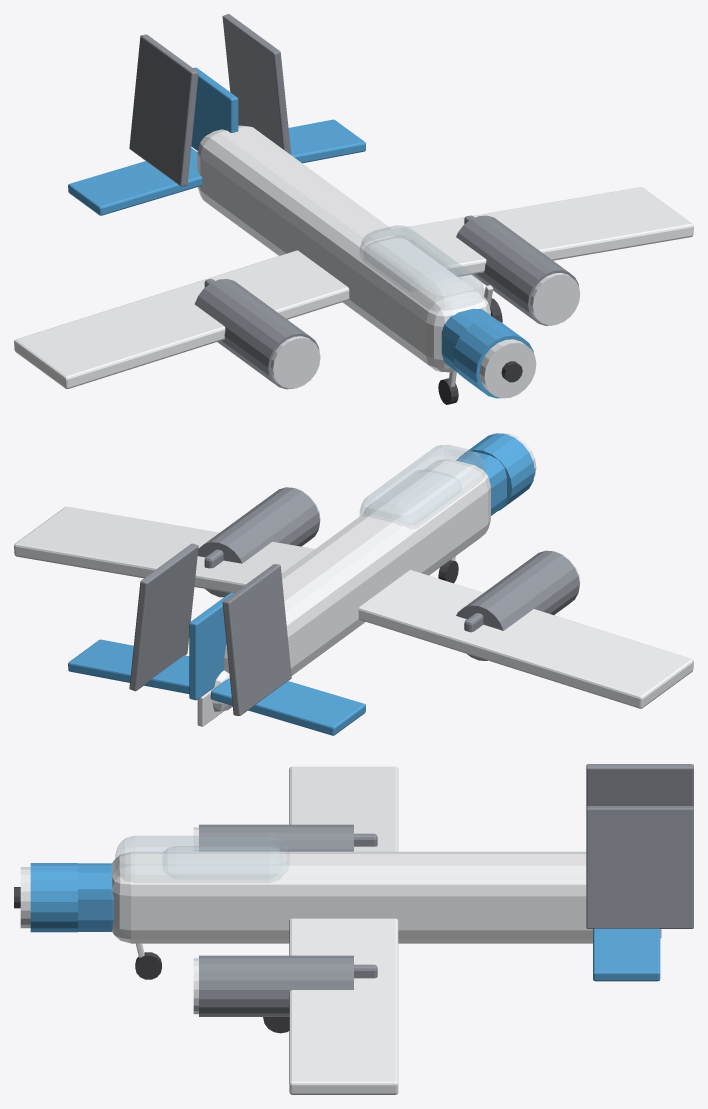
File: veh_jet.glb
3 renders of one model, top to bottom at view 1: azimuth 30°, elevation 25°; view 2: azimuth 150°, elevation 25°; view 3: azimuth 270°, elevation 25°, orthographic. The views are drawn at different scales.
Parts seen in each view (by area): view 1: veh_jet_fuselage, veh_jet_wing_l, veh_jet_wing_r, veh_jet_vtail_l, veh_jet_canopy_jet, veh_jet_vtail_r, veh_jet_nac_l, veh_jet_nac_r, veh_jet_tail_l, veh_jet_canopy, veh_jet_tail_r, veh_jet_cowl (+5 smaller); view 2: veh_jet_fuselage, veh_jet_wing_l, veh_jet_wing_r, veh_jet_vtail_l, veh_jet_vtail_r, veh_jet_canopy_jet, veh_jet_nac_l, veh_jet_nac_r, veh_jet_tail_l, veh_jet_canopy, veh_jet_tail_r, veh_jet_fin (+3 smaller); view 3: veh_jet_fuselage, veh_jet_wing_r, veh_jet_vtail_r, veh_jet_nac_r, veh_jet_canopy_jet, veh_jet_wing_l, veh_jet_vtail_l, veh_jet_nac_l, veh_jet_canopy, veh_jet_tail_r, veh_jet_cowl, veh_jet_nose (+2 smaller).
Boxes of the visible parts, x1,y1,x2,y2 form: veh_jet_fuselage: (197, 125, 490, 372); veh_jet_wing_l: (14, 250, 349, 388); veh_jet_wing_r: (393, 187, 693, 276); veh_jet_vtail_l: (129, 34, 198, 186); veh_jet_canopy_jet: (360, 225, 484, 310); veh_jet_vtail_r: (222, 14, 291, 154); veh_jet_nac_l: (194, 279, 319, 389); veh_jet_nac_r: (456, 215, 578, 325); veh_jet_tail_l: (68, 148, 202, 215); veh_jet_canopy: (364, 236, 461, 291); veh_jet_tail_r: (288, 119, 365, 163); veh_jet_cowl: (453, 319, 533, 398); veh_jet_fuselage: (224, 459, 490, 675); veh_jet_wing_l: (358, 570, 693, 708); veh_jet_wing_r: (14, 506, 314, 592); veh_jet_vtail_l: (222, 564, 291, 715); veh_jet_vtail_r: (129, 543, 198, 691); veh_jet_canopy_jet: (360, 445, 484, 528); veh_jet_nac_l: (456, 550, 579, 660); veh_jet_nac_r: (197, 487, 319, 597); veh_jet_tail_l: (210, 678, 365, 735); veh_jet_canopy: (364, 469, 461, 524); veh_jet_tail_r: (68, 639, 189, 693); veh_jet_fin: (189, 592, 233, 700); veh_jet_fuselage: (111, 851, 592, 943); veh_jet_wing_r: (289, 918, 398, 1094); veh_jet_vtail_r: (586, 806, 693, 928); veh_jet_nac_r: (199, 955, 353, 1016); veh_jet_canopy_jet: (115, 836, 289, 882); veh_jet_wing_l: (289, 766, 398, 851); veh_jet_vtail_l: (586, 764, 693, 806); veh_jet_nac_l: (199, 824, 353, 851); veh_jet_canopy: (163, 846, 282, 878); veh_jet_tail_r: (593, 928, 660, 981); veh_jet_cowl: (30, 863, 77, 932); veh_jet_nose: (78, 863, 113, 931).
Size of the model in its own units: 11.14 by 3.15 by 10.1.
